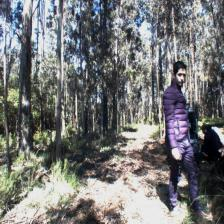trunktrack_idkeyframe: (17, 54, 34, 154), (55, 76, 62, 156)
